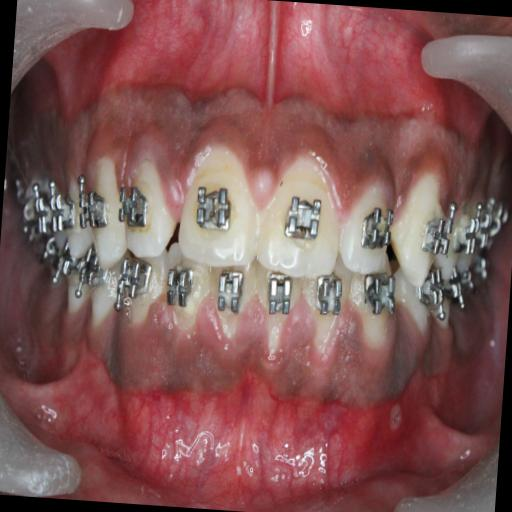correct_brace: (190, 182, 236, 240), (281, 190, 325, 250), (118, 178, 155, 235), (360, 200, 393, 256)
incorrect_brace: (116, 152, 182, 257), (339, 161, 398, 274)
